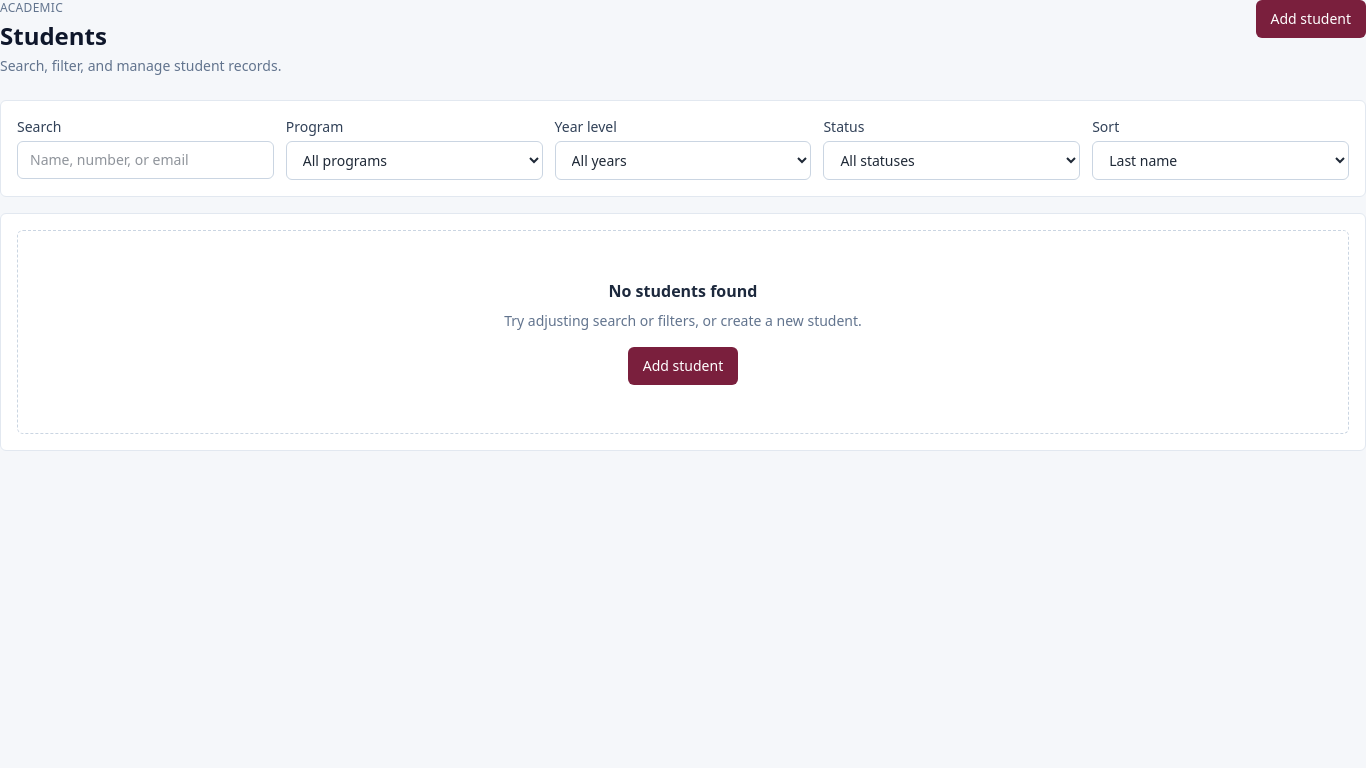
Scenario: StudentsPage › opens create form and validates required fields
Click the button "Add student" in the row of "Academic" at (1311, 19), box [1256, 0, 1365, 38]
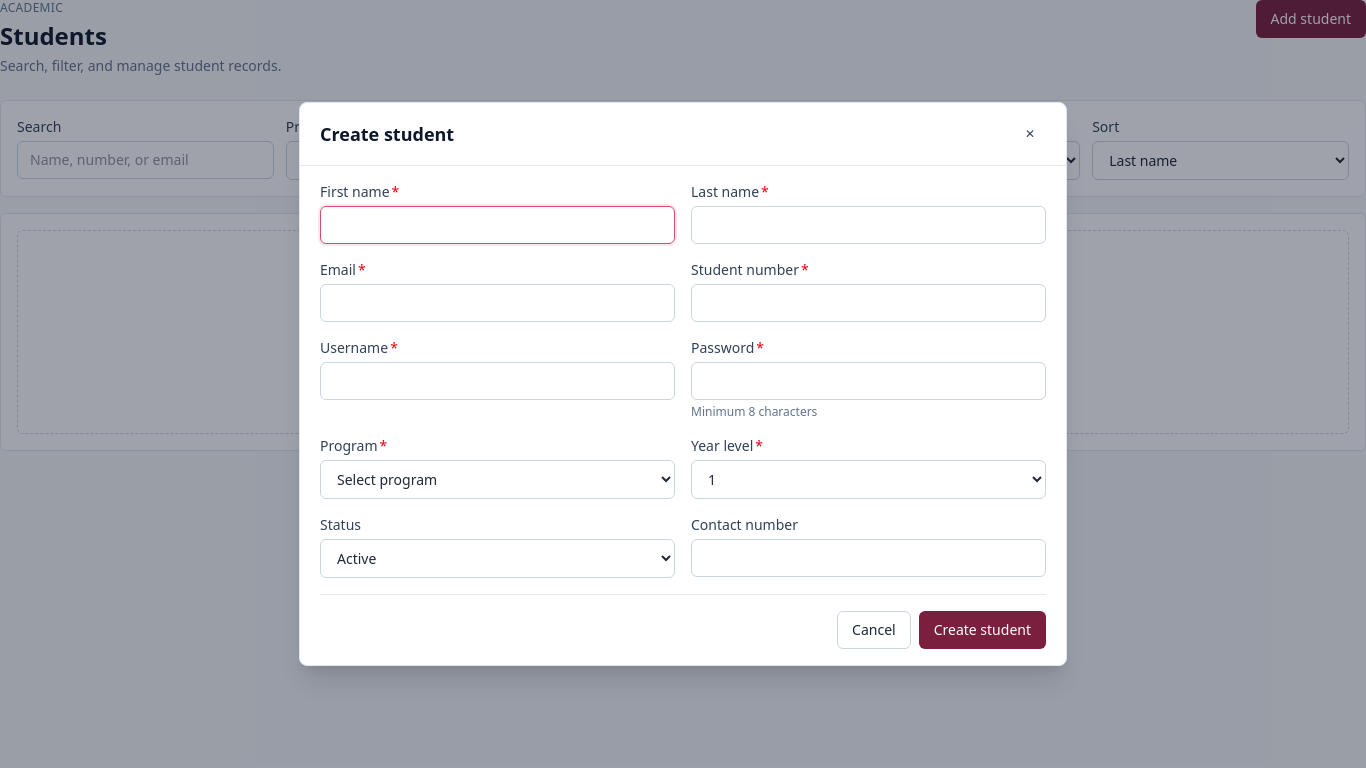
Click the button "Create student" at (982, 630), box [919, 611, 1046, 649]
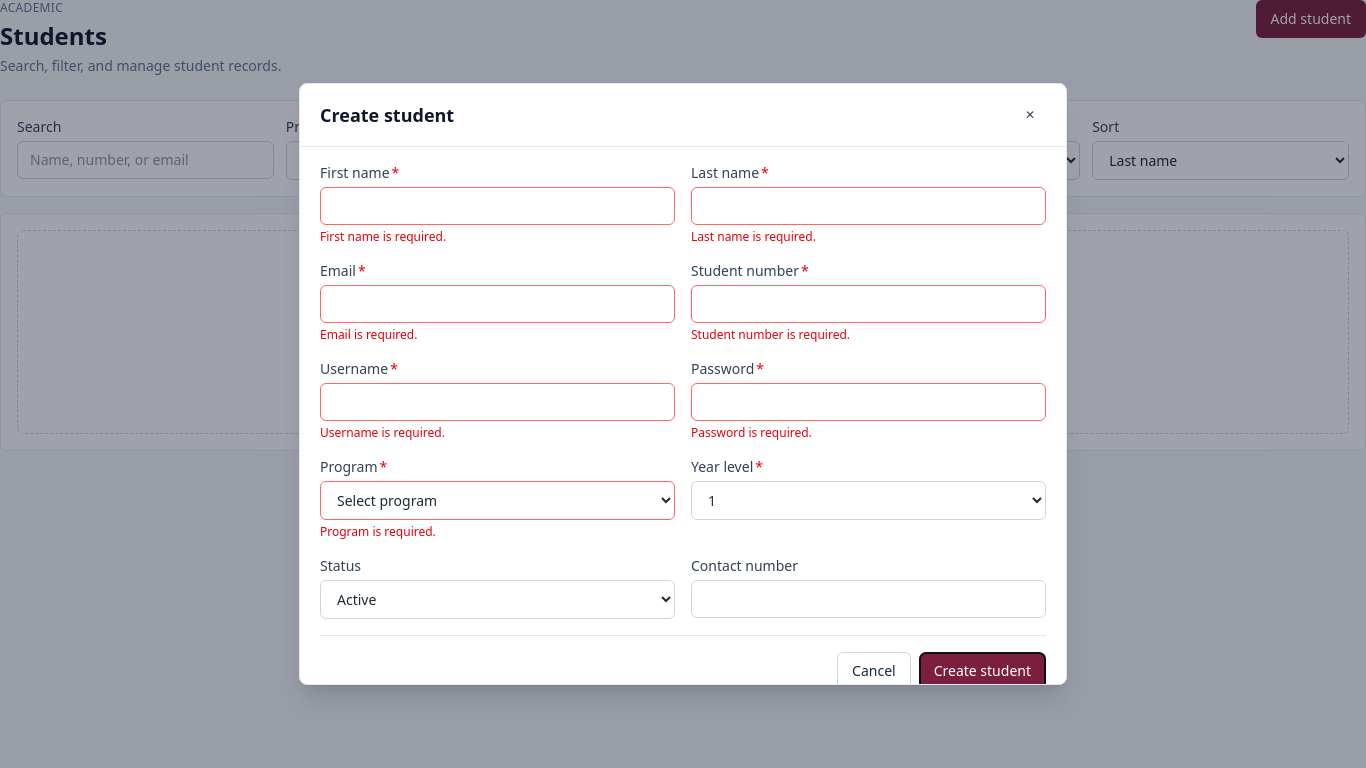
Now the text "First name is required." is shown, box [320, 228, 446, 245]
